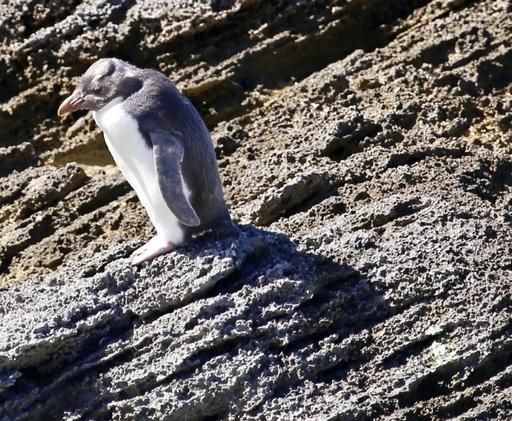Southern Rockhopper Penguin: (55, 48, 254, 270)
